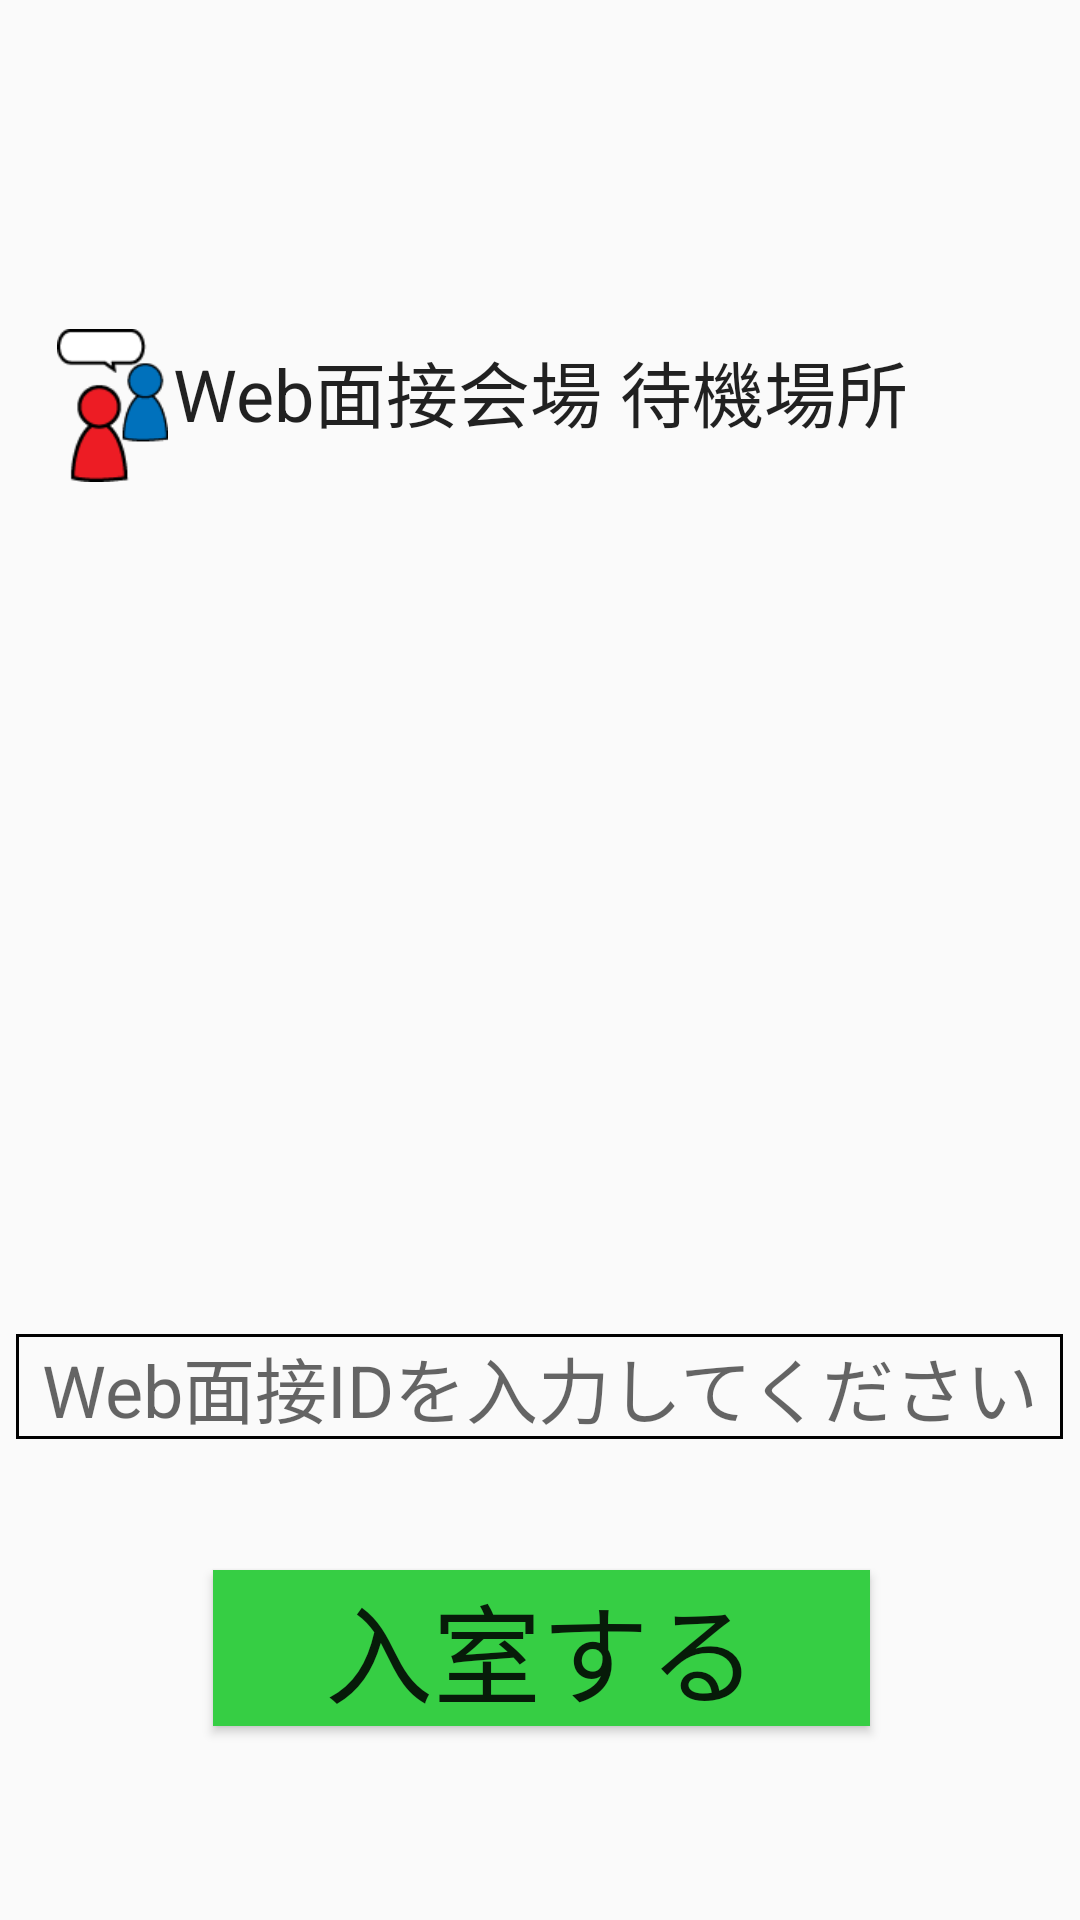

Screen size 1080w x 1920h. Icon name, then its center in pixels as (x=x, y=y):
web interview: (x=112, y=405)
